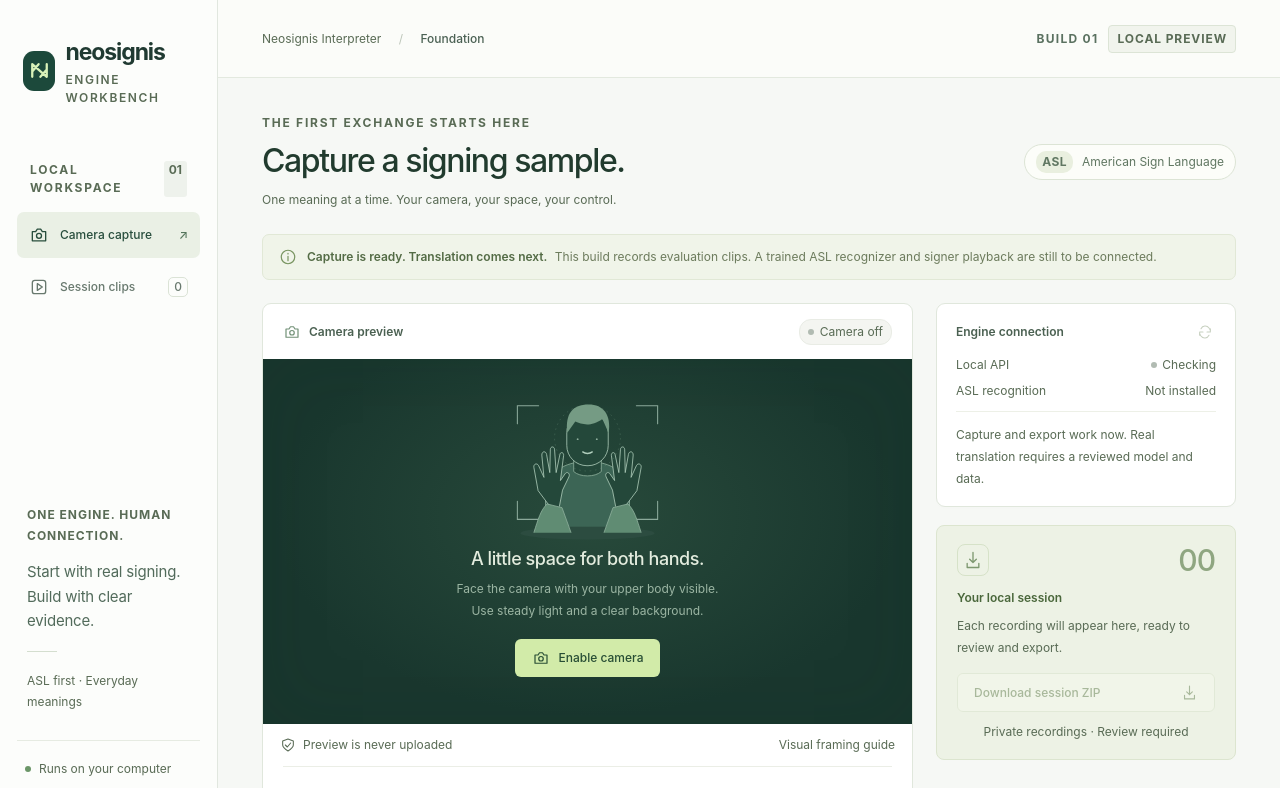
Test: local camera workbench › offers a real empty-review state without sample signing footage
Click the button "Session clips 0" at (108, 286), box [17,264,200,310]
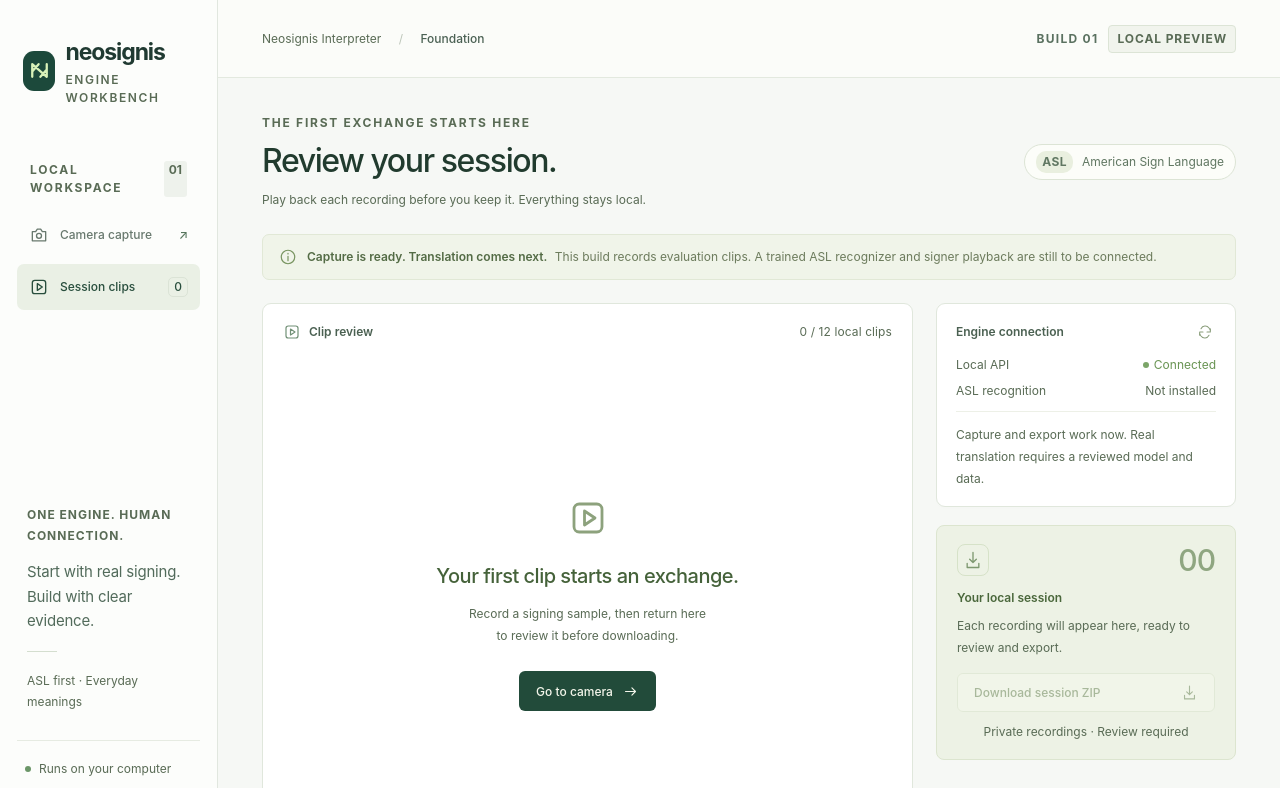
Result: the heading "Your first clip starts an exchange." is shown at [436,561,739,591]
